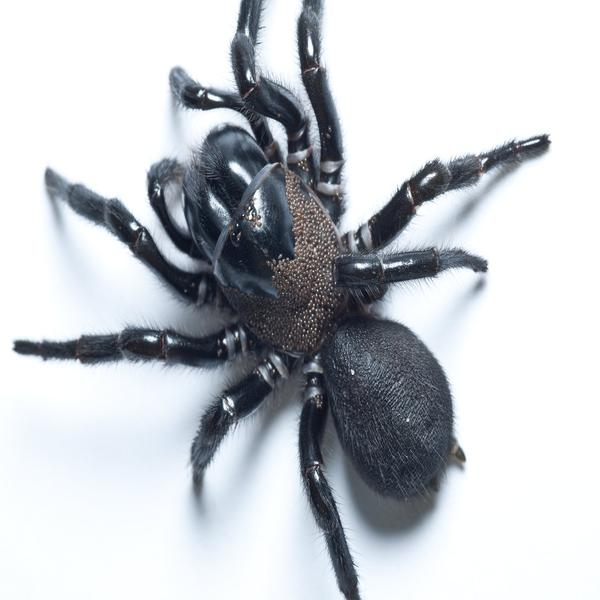Sydney_Funnel_Web_Spider: (14, 5, 550, 600)
